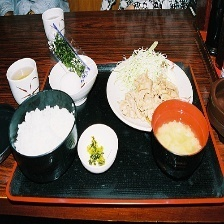rice: (7, 100, 77, 162)
